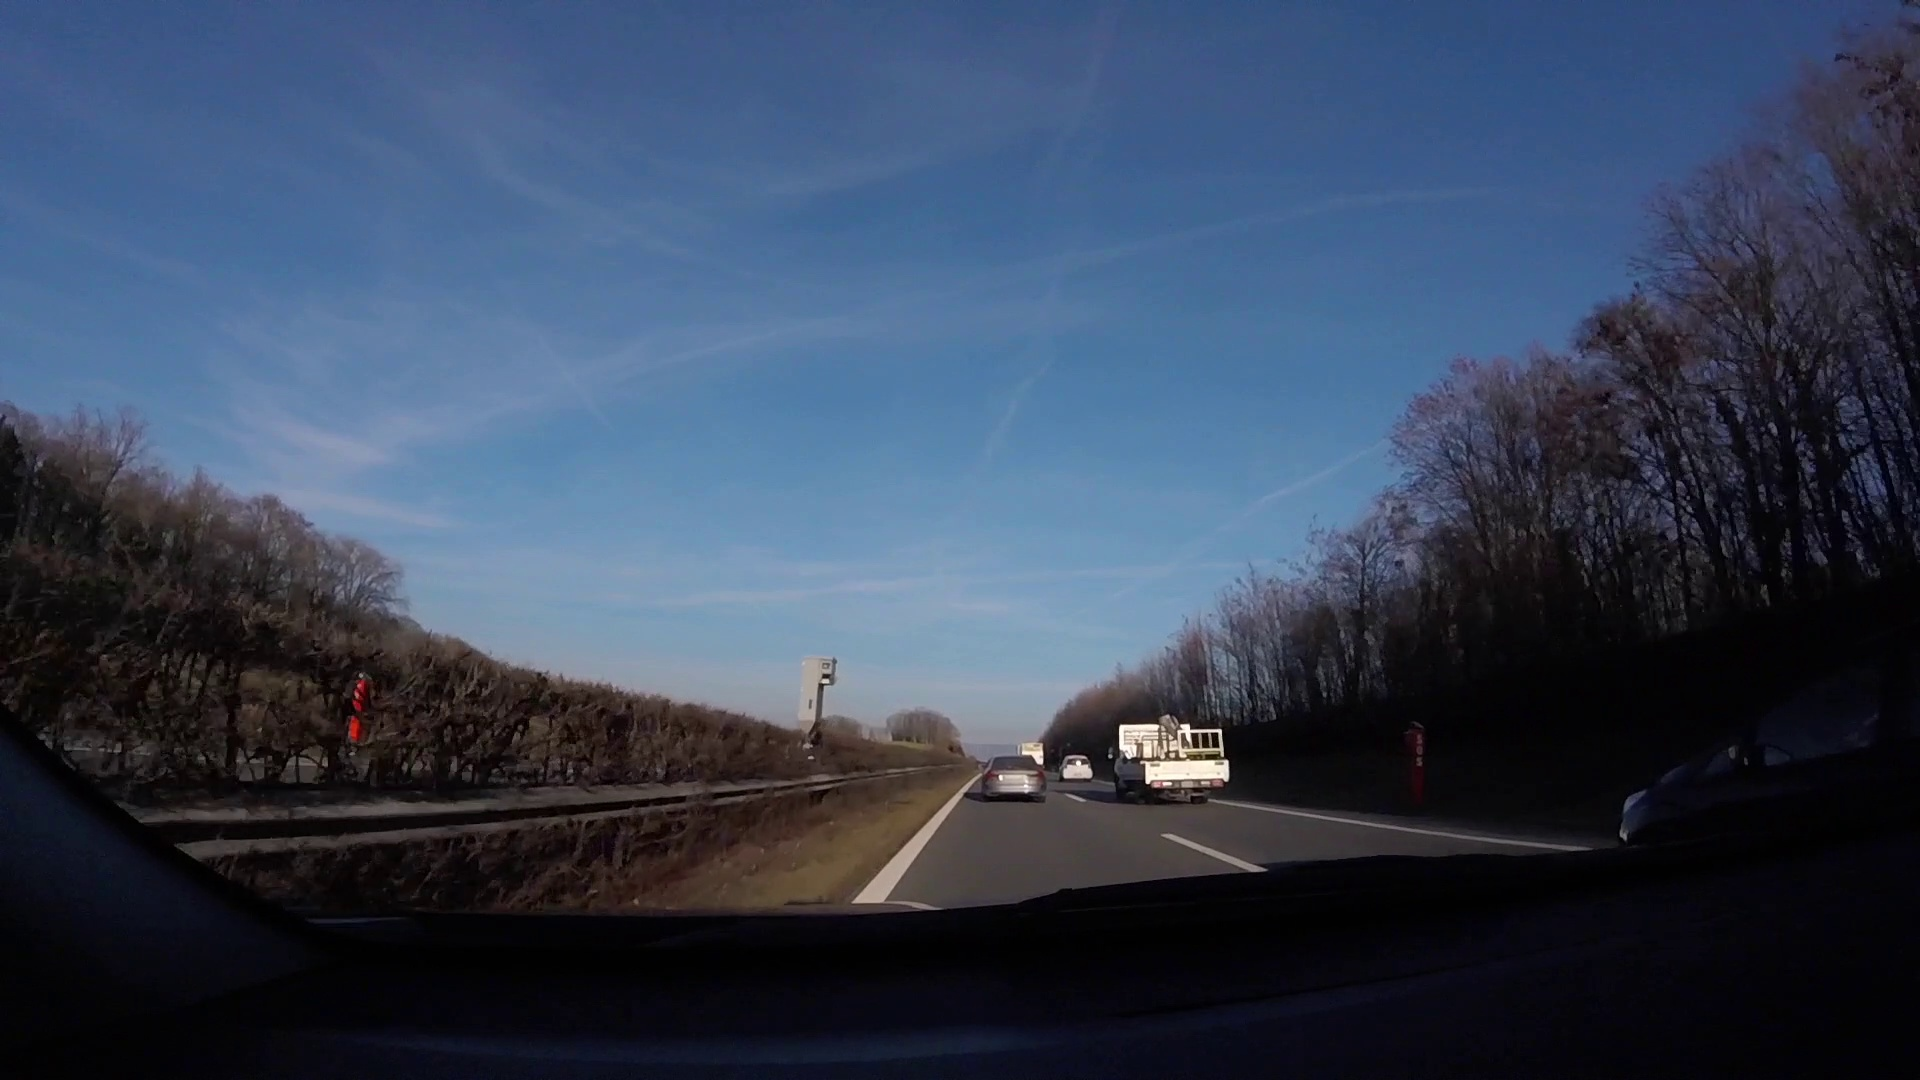radar: (796, 653, 843, 745)
